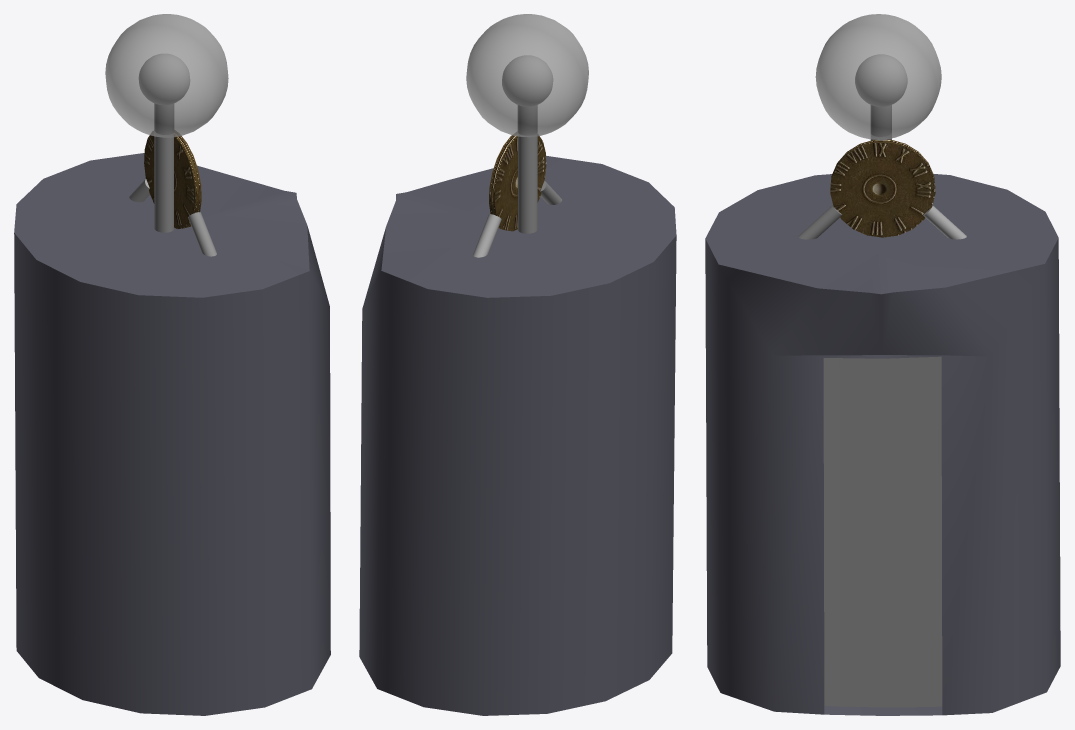
Rendered from TimeMachine.fbx.
The picture shows the model from 3 angles, left to right: view 1: azimuth 30°, elevation 25°; view 2: azimuth 150°, elevation 25°; view 3: azimuth 270°, elevation 25°; orthographic projection. The views are drawn at different scales.
Parts seen in each view (by area): view 1: pCylinder1, pSphere2, pCylinder3, pCylinder2, pSphere1, pCylinder4; view 2: pCylinder1, pSphere2, pCylinder3, pCylinder2, pSphere1, pCylinder5; view 3: pCylinder1, pSphere2, pCylinder3, pSphere1, pCylinder2, pCylinder4, pCylinder5.
Part boxes in pixels (bbox=[...]): pCylinder1: bbox=[14, 153, 330, 715]; pSphere2: bbox=[105, 14, 228, 137]; pCylinder3: bbox=[144, 131, 201, 229]; pCylinder2: bbox=[154, 103, 174, 232]; pSphere1: bbox=[139, 54, 189, 104]; pCylinder4: bbox=[188, 212, 216, 256]; pCylinder1: bbox=[359, 155, 676, 715]; pSphere2: bbox=[466, 14, 588, 137]; pCylinder3: bbox=[489, 132, 546, 231]; pCylinder2: bbox=[517, 105, 537, 233]; pSphere1: bbox=[502, 55, 552, 106]; pCylinder5: bbox=[473, 214, 501, 257]; pCylinder1: bbox=[705, 174, 1060, 715]; pSphere2: bbox=[815, 14, 941, 139]; pCylinder3: bbox=[830, 139, 935, 237]; pSphere1: bbox=[855, 54, 907, 106]; pCylinder2: bbox=[870, 105, 891, 140]; pCylinder4: bbox=[798, 205, 841, 239]; pCylinder5: bbox=[923, 205, 966, 239].
Bounding box in the file's own units: 5.33 × 12.38 × 6.22.
Materials: 5 (1 with a texture image).
